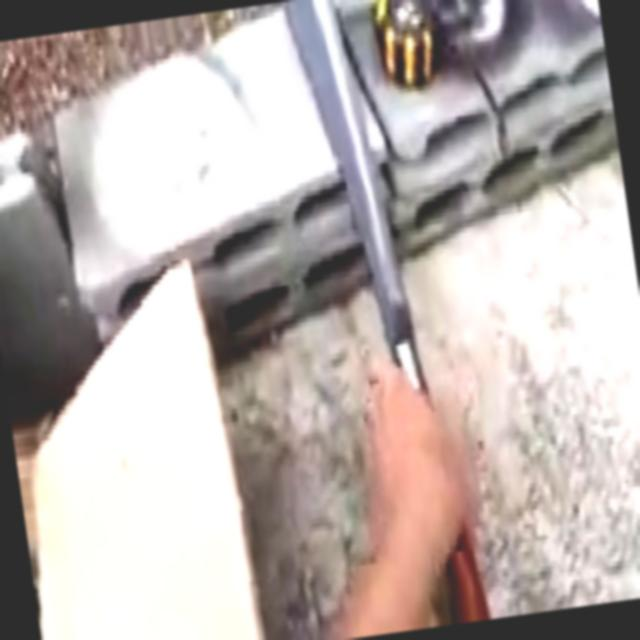eto: (287, 0, 490, 619)
